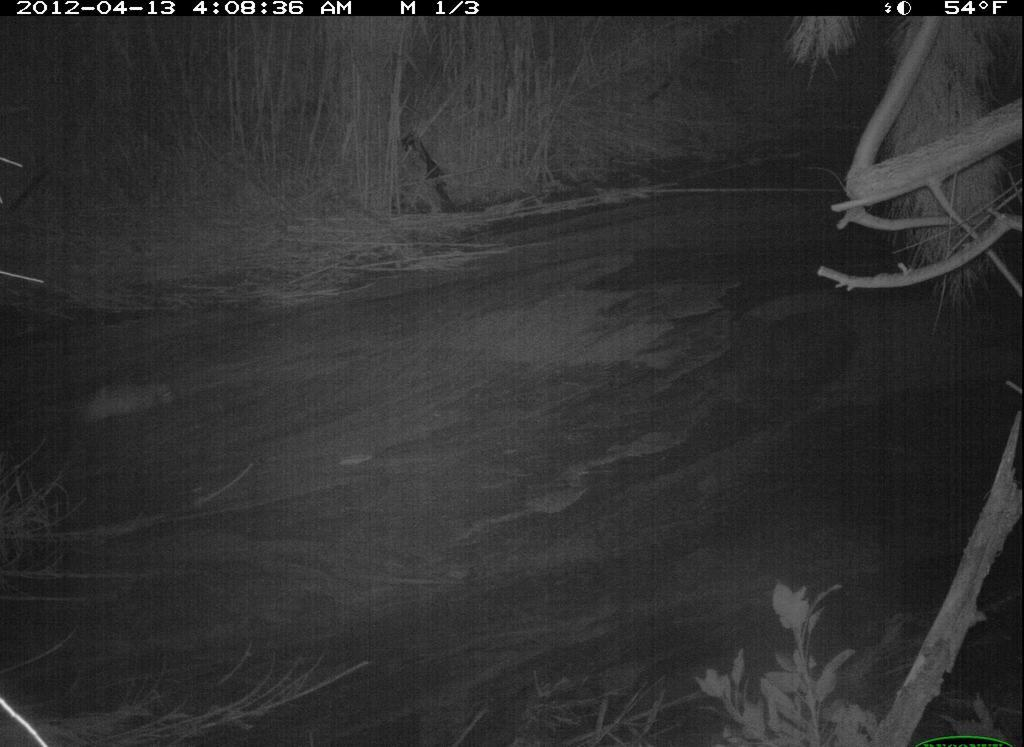opossum: (29, 363, 183, 427)
